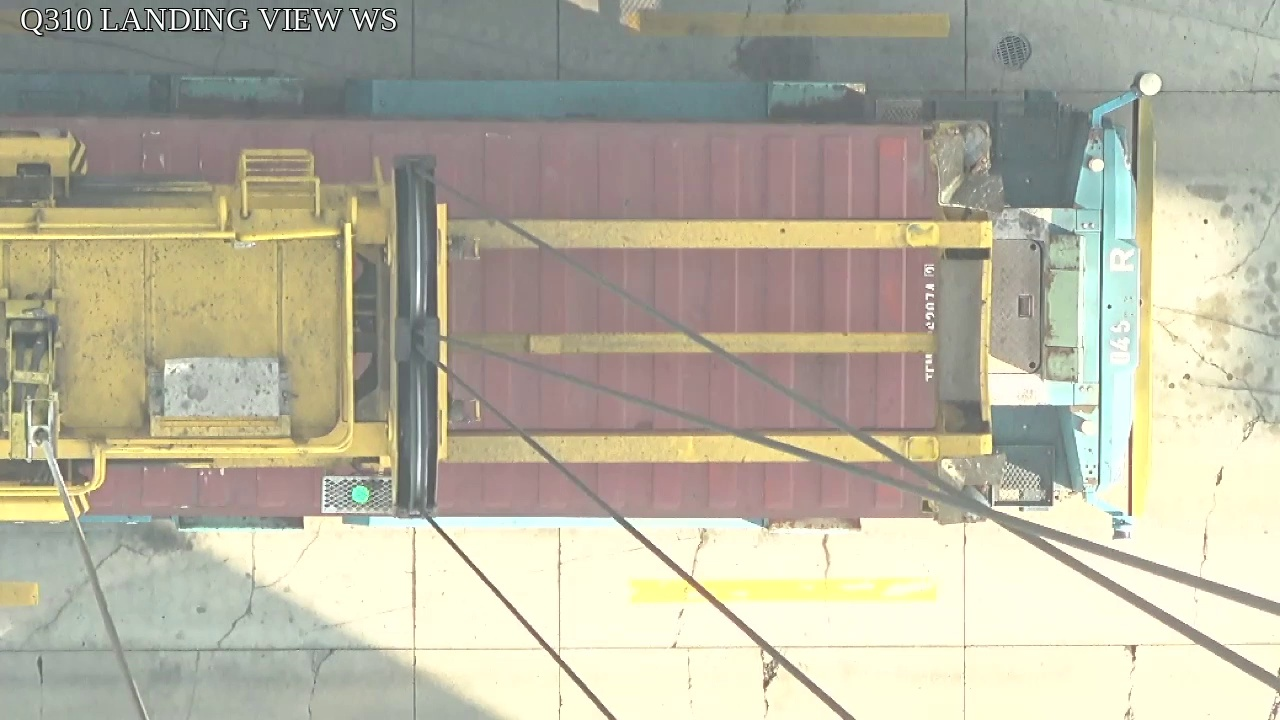right: (386, 155, 450, 516)
